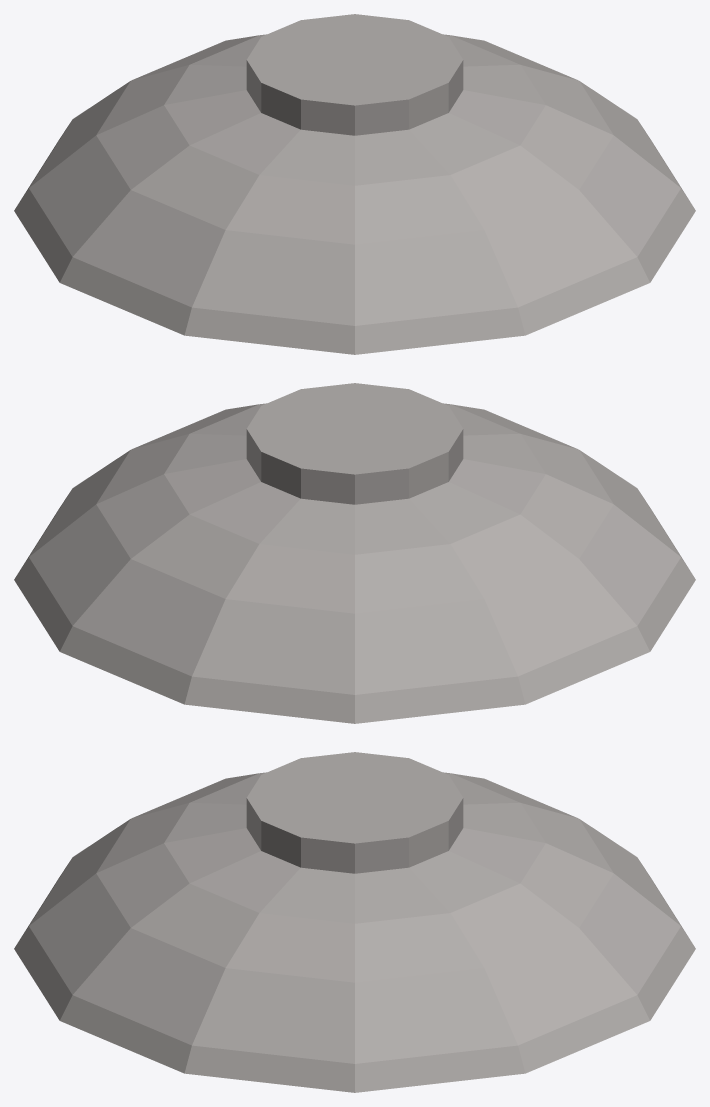
File: Light.fbx
3 renders of one model, top to bottom at view 1: azimuth 30°, elevation 25°; view 2: azimuth 150°, elevation 25°; view 3: azimuth 270°, elevation 25°, orthographic.
Parts seen in each view (by area): view 1: Light; view 2: Light; view 3: Light.
Boxes of the visible parts, x1,y1,x2,y2 form: Light: (14,14,695,354); Light: (14,383,695,723); Light: (14,752,695,1092).
Size of the model in its own units: 819 by 274 by 819.
